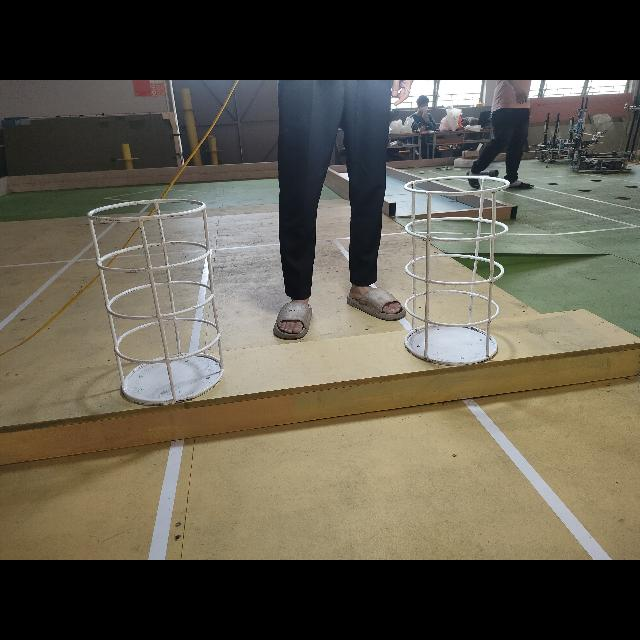S: (89, 192, 231, 410), (396, 170, 508, 368)
